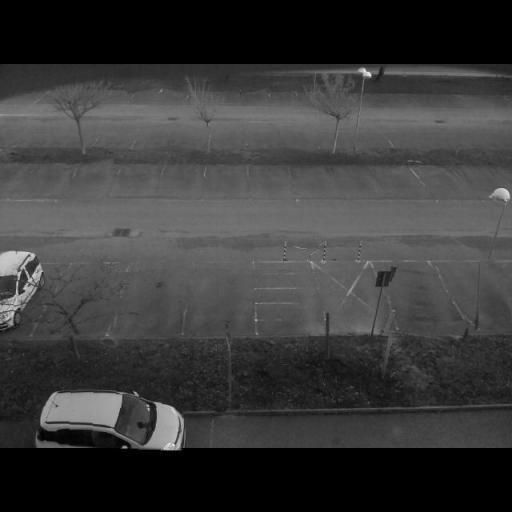busy: (26, 388, 184, 449), (3, 250, 42, 324)
free: (108, 260, 194, 332), (383, 262, 451, 343), (49, 262, 116, 336), (184, 265, 254, 335), (455, 260, 510, 330), (63, 160, 119, 200), (168, 122, 212, 153), (92, 125, 138, 152), (458, 166, 497, 197), (131, 124, 173, 152), (213, 122, 248, 153), (22, 167, 60, 193), (281, 128, 316, 154), (345, 136, 394, 154), (204, 167, 242, 190), (245, 130, 281, 153), (126, 83, 165, 104), (161, 166, 197, 188), (384, 137, 430, 154), (116, 168, 154, 188), (374, 168, 410, 189), (332, 168, 367, 189), (248, 169, 286, 188), (291, 168, 327, 187), (156, 86, 192, 104), (239, 86, 271, 106), (267, 88, 298, 108), (419, 170, 447, 184)
